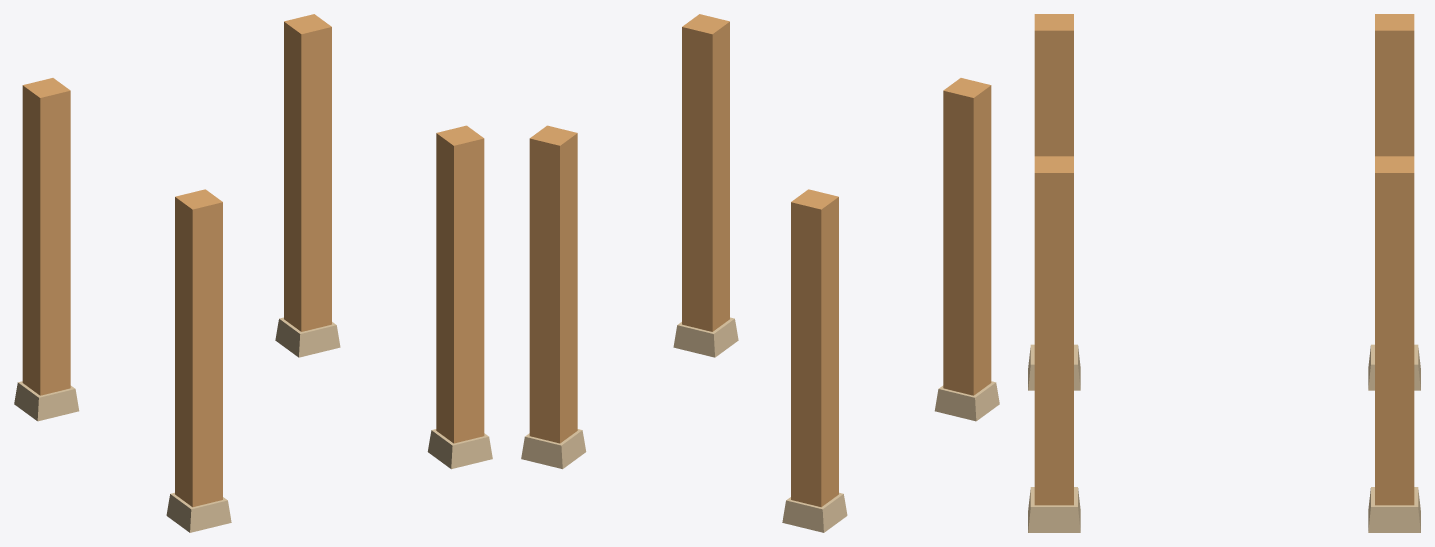
The picture shows the model from 3 angles, left to right: view 1: azimuth 30°, elevation 25°; view 2: azimuth 150°, elevation 25°; view 3: azimuth 270°, elevation 25°; orthographic projection. The views are drawn at different scales.
Parts seen in each view (by area): view 1: Column-1.003, Column-1, Column-1.001, Column-1.002, Foundation-1, Foundation-1.003, Foundation-1.001, Foundation-1.002; view 2: Column-1.002, Column-1.001, Column-1, Column-1.003, Foundation-1.001, Foundation-1.002, Foundation-1, Foundation-1.003; view 3: Column-1.002, Column-1.003, Column-1, Column-1.001, Foundation-1.002, Foundation-1.003, Foundation-1, Foundation-1.001.
Boxes of the visible parts, left/top/right/bottom form: Column-1.003: left=436, top=125, right=484, bottom=443; Column-1: left=22, top=78, right=70, bottom=395; Column-1.001: left=175, top=189, right=222, bottom=507; Column-1.002: left=284, top=14, right=331, bottom=331; Foundation-1: left=14, top=381, right=79, bottom=421; Foundation-1.003: left=427, top=429, right=492, bottom=469; Foundation-1.001: left=166, top=492, right=231, bottom=532; Foundation-1.002: left=275, top=317, right=340, bottom=357; Column-1.002: left=529, top=125, right=577, bottom=443; Column-1.001: left=943, top=78, right=991, bottom=395; Column-1: left=791, top=189, right=838, bottom=507; Column-1.003: left=682, top=14, right=729, bottom=331; Foundation-1.001: left=934, top=381, right=999, bottom=421; Foundation-1.002: left=521, top=429, right=586, bottom=469; Foundation-1: left=782, top=492, right=847, bottom=532; Foundation-1.003: left=673, top=317, right=738, bottom=357; Column-1.002: left=1375, top=156, right=1414, bottom=505; Column-1.003: left=1034, top=156, right=1073, bottom=505; Column-1: left=1375, top=14, right=1414, bottom=156; Column-1.001: left=1034, top=14, right=1073, bottom=156; Foundation-1.002: left=1368, top=487, right=1420, bottom=532; Foundation-1.003: left=1028, top=487, right=1080, bottom=532; Foundation-1: left=1368, top=344, right=1420, bottom=390; Foundation-1.001: left=1028, top=344, right=1080, bottom=390.
Bounding box in the file's own units: 198 × 200 × 200.
